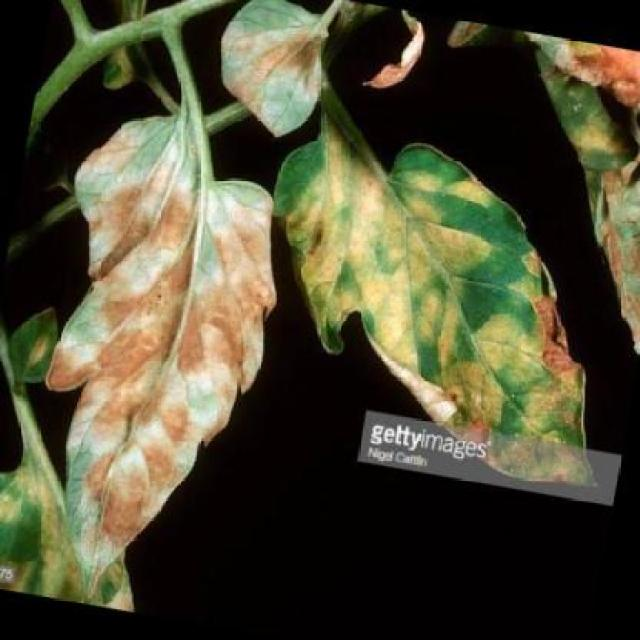Leaf Mold: (0, 74, 308, 617), (238, 111, 637, 517)
